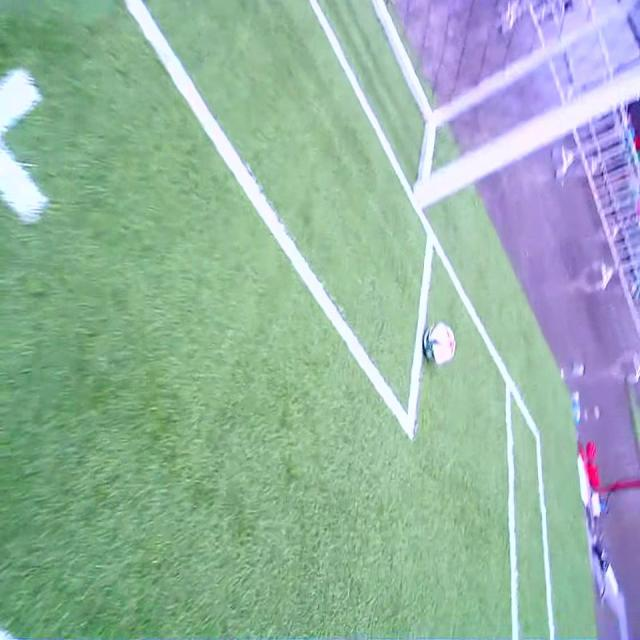ball: (424, 321, 457, 365)
